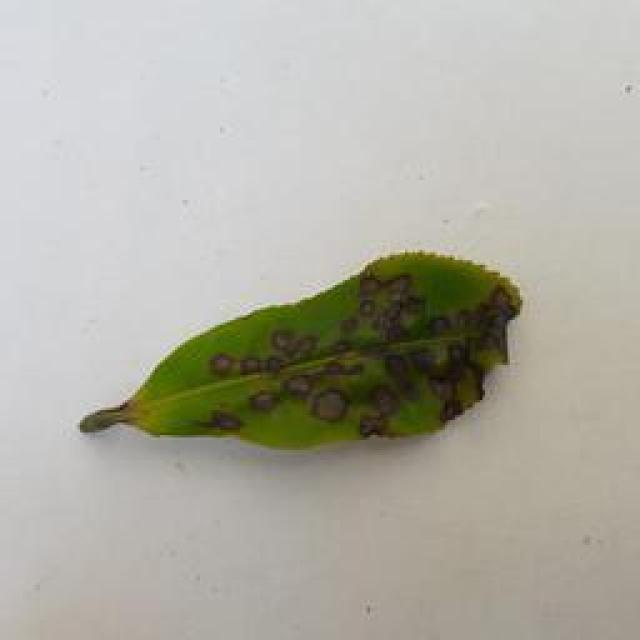Helopeltis: (74, 251, 543, 460)
